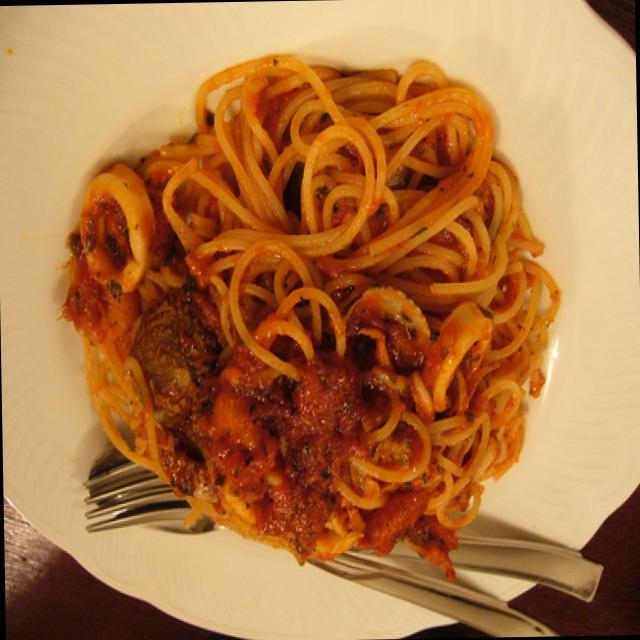Pasta: (46, 59, 564, 569)
